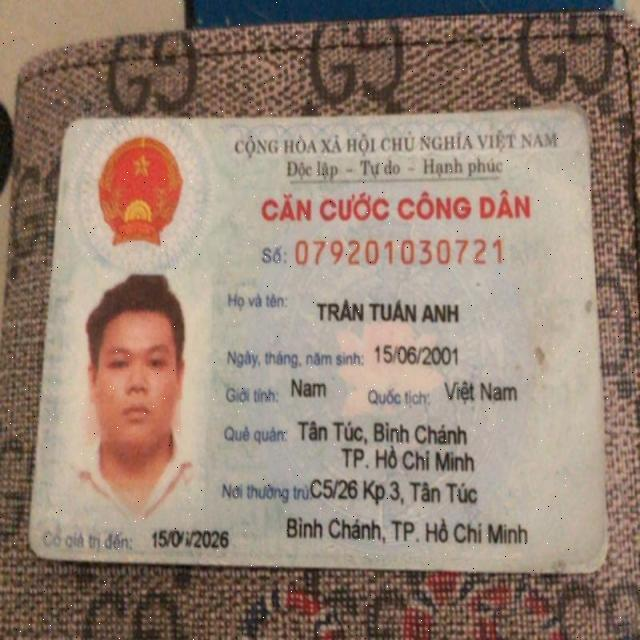current_place: (284, 512, 532, 551), (308, 474, 481, 506)
dob: (372, 338, 462, 370)
expire_date: (150, 524, 232, 551)
gender: (289, 374, 329, 403)
id: (292, 234, 507, 269)
name: (313, 294, 464, 331)
nationality: (441, 375, 521, 407)
origin_place: (294, 417, 470, 448), (340, 446, 474, 477)
